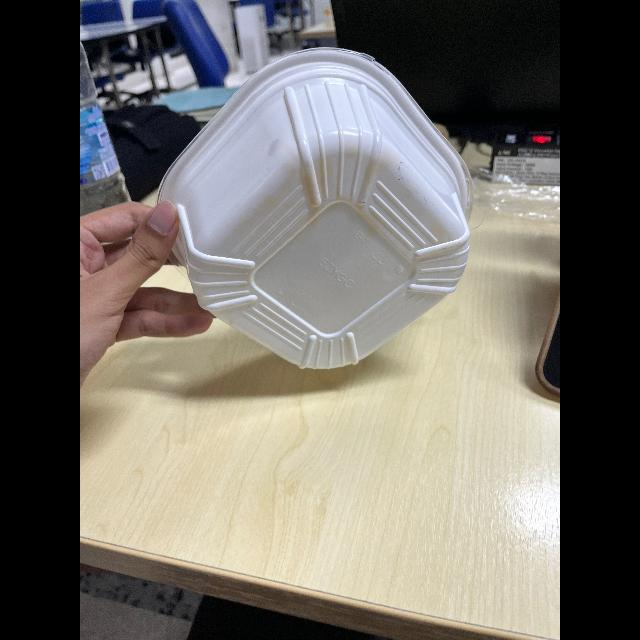plastic_box: (146, 40, 480, 382)
